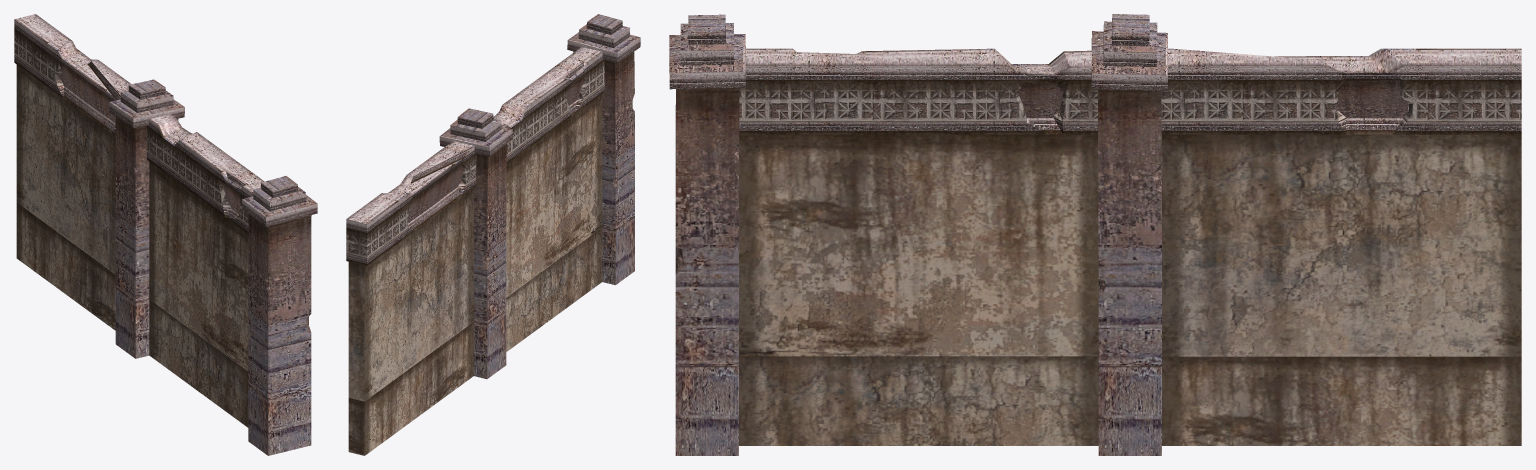
The model's file is MWalB1.glb.
The picture shows the model from 3 angles, left to right: view 1: azimuth 30°, elevation 25°; view 2: azimuth 150°, elevation 25°; view 3: azimuth 270°, elevation 25°; orthographic projection. The views are drawn at different scales.
Parts seen in each view (by area): view 1: _MWalB1; view 2: _MWalB1; view 3: _MWalB1.
Boxes of the visible parts, box(x1,y1,x2,y2) form: _MWalB1: box(14, 14, 317, 455); _MWalB1: box(346, 14, 640, 455); _MWalB1: box(669, 14, 1521, 455).
Bounding box in the file's own units: 0.9131 × 4.34 × 8.06.
2 materials, 2 textured.
